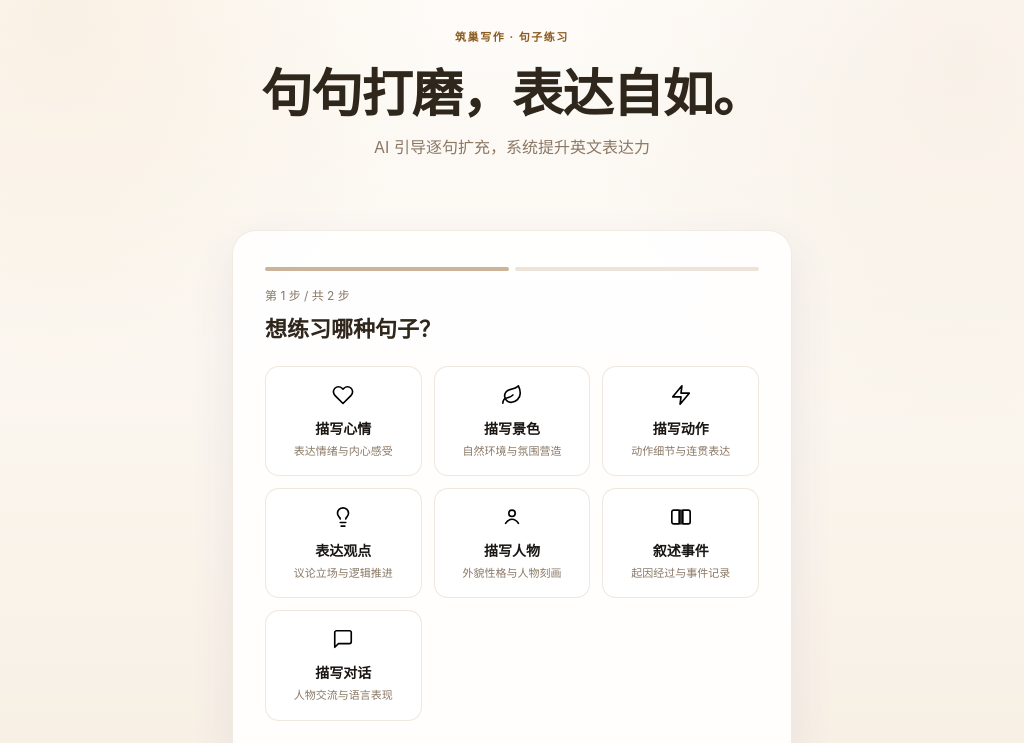
Scenario: WritingRefineSentencePage › polishes the sentence and shows the before/after comparison
Click the button "描写心情 表达情绪与内心感受". click: {"x": 343, "y": 421}
box: [265,366,422,476]
(page scrolled)
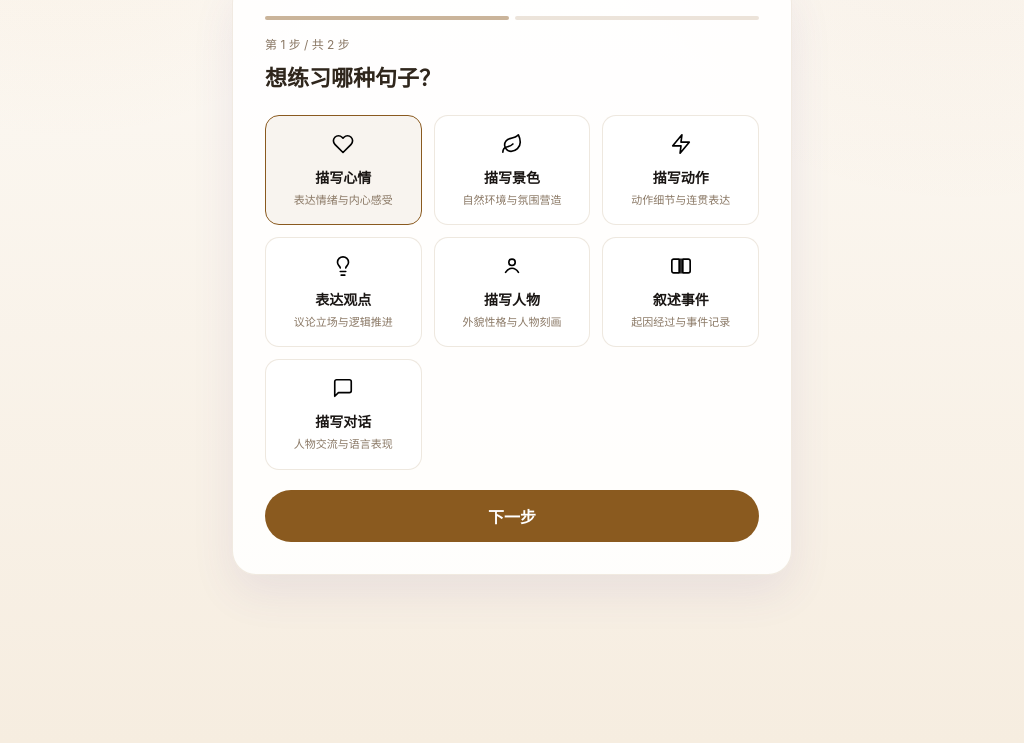
Click the button "下一步". click: {"x": 512, "y": 516}
box: [265,490,759,542]
(page scrolled)
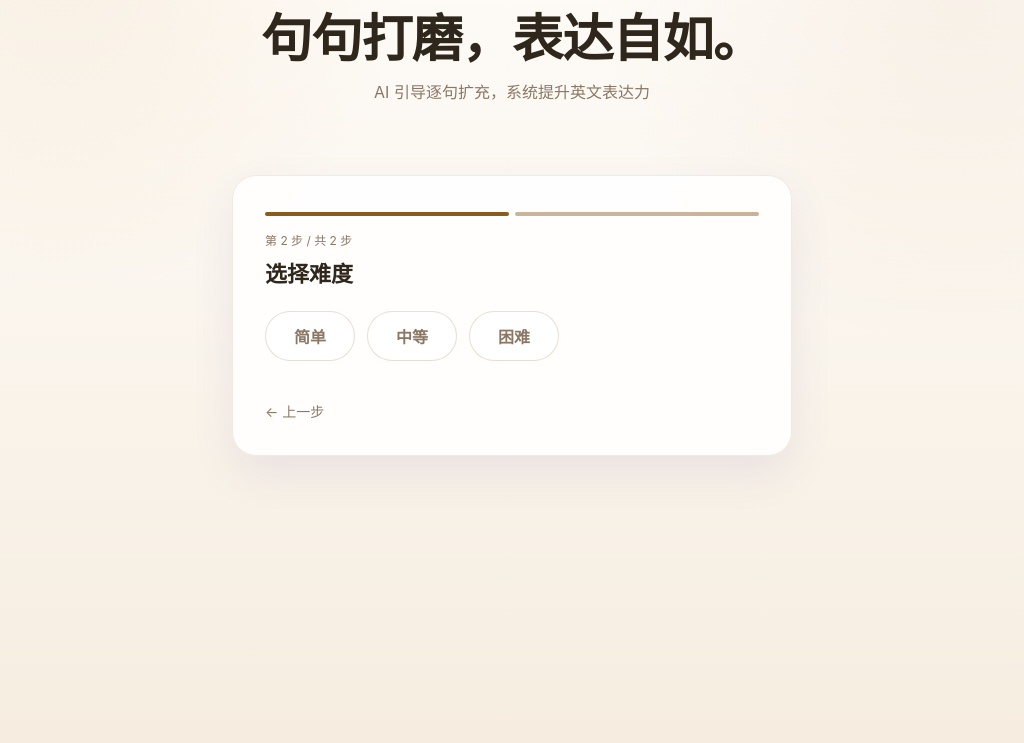
Click the button "简单". click: {"x": 310, "y": 336}
box: [265,311,355,361]
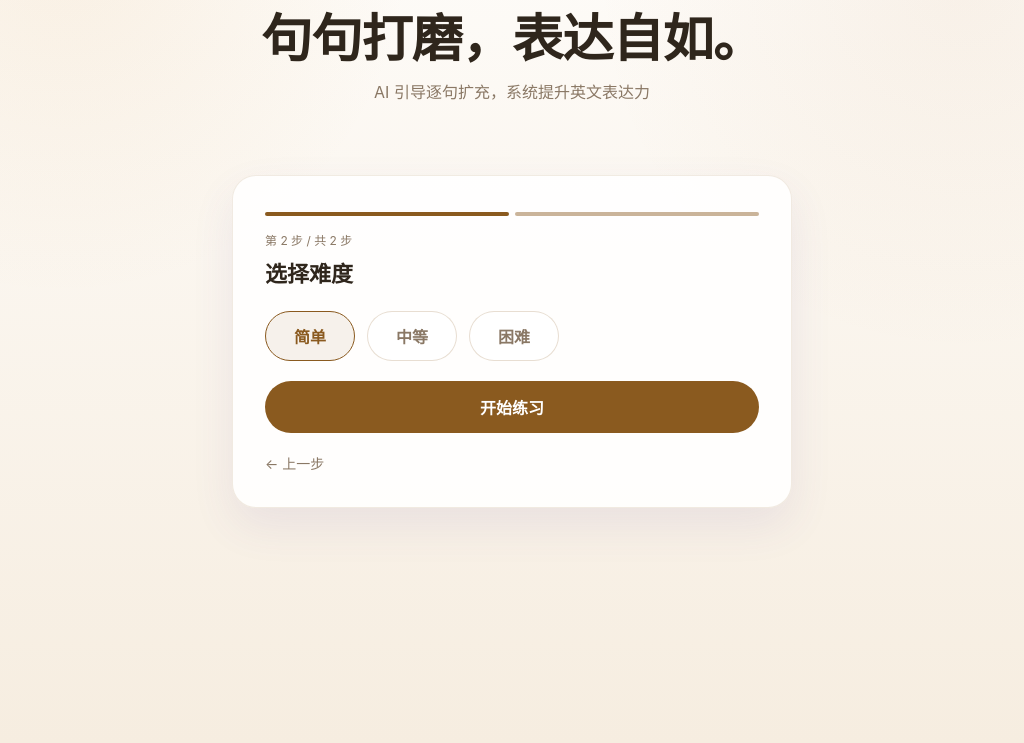
Click the button "开始练习". click: {"x": 512, "y": 407}
box: [265,381,759,433]
(page scrolled)
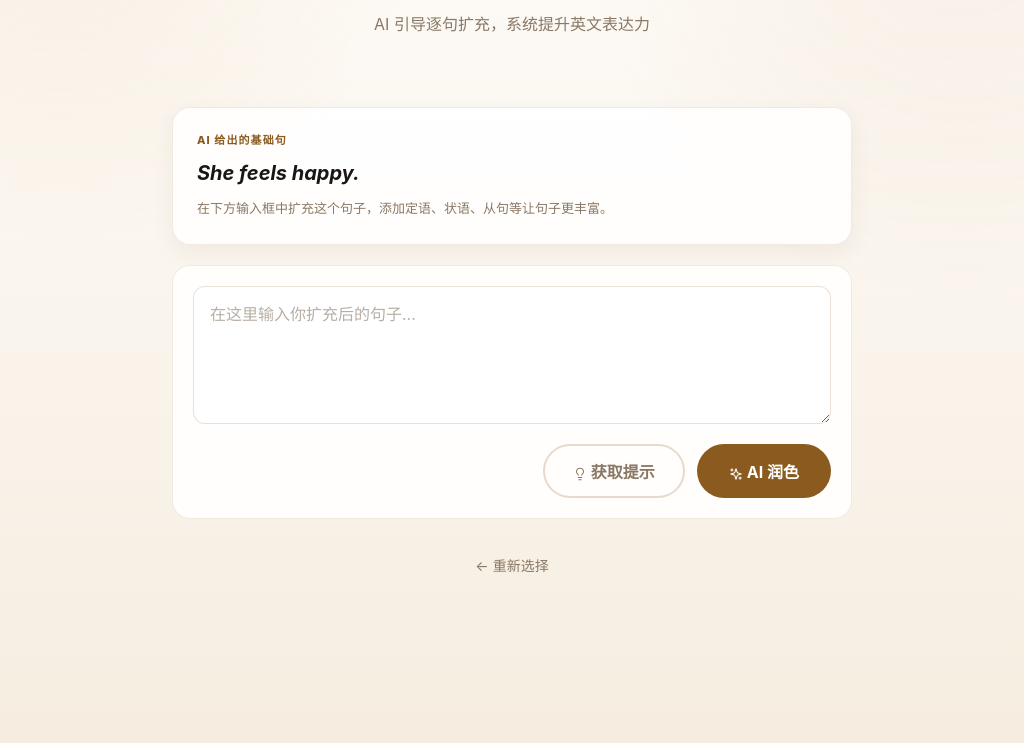
Expected: the text "She feels happy." is shown, [197,161,360,185]
Type "She feels very happy today." into the text box with placeholder "在这里输入你扩充后的句子...". click: {"x": 512, "y": 355}
box: [193,286,831,424]
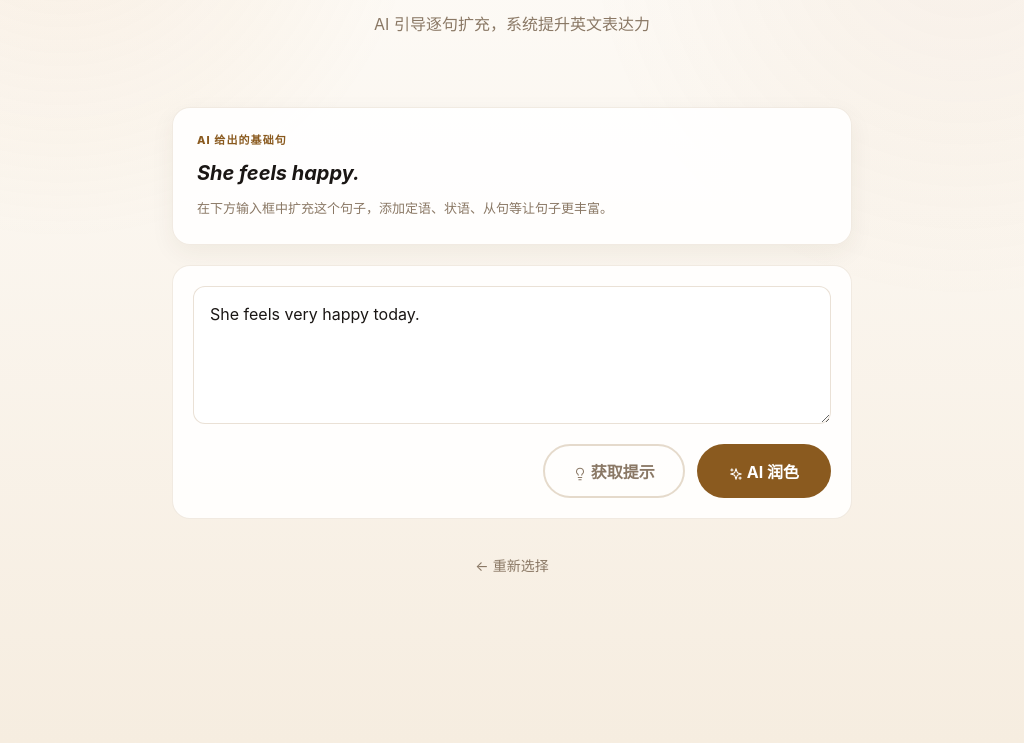
Click the button "AI 润色". click: {"x": 764, "y": 471}
box: [697,444,831,498]
(page scrolled)
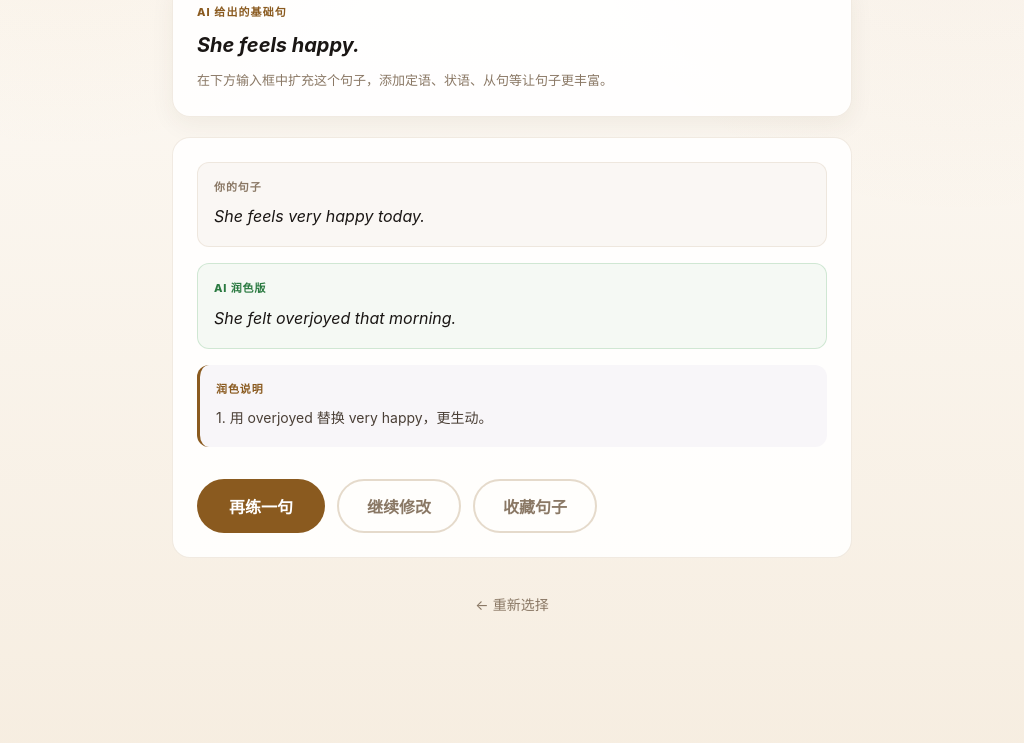
Expected: the text "She felt overjoyed that morning." is shown, [214,308,456,328]
Expected: the text "1. 用 overjoyed 替换 very happy，更生动。" is shown, [216,409,493,426]
